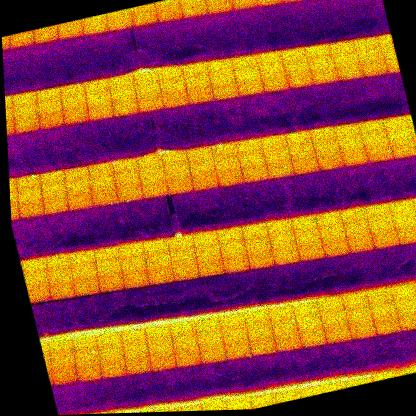Hotspot: (273, 331, 303, 353), (72, 346, 102, 367), (290, 298, 319, 318), (168, 319, 197, 339), (111, 156, 140, 176), (339, 205, 367, 225), (315, 210, 343, 230), (95, 258, 123, 278), (116, 183, 144, 203), (91, 188, 119, 208), (188, 157, 216, 177), (235, 135, 263, 155), (210, 139, 238, 159), (39, 168, 67, 188), (351, 34, 379, 54), (296, 312, 324, 332), (270, 316, 298, 336), (146, 336, 174, 356), (58, 81, 87, 100), (47, 337, 74, 357), (241, 221, 268, 241), (242, 307, 270, 326), (120, 326, 148, 345), (285, 129, 313, 148), (14, 172, 42, 191), (184, 72, 212, 91), (83, 76, 111, 95), (181, 61, 209, 79), (309, 124, 336, 142), (5, 93, 16, 112)
Normal: (221, 251, 251, 275), (148, 349, 178, 372), (71, 276, 102, 298), (296, 241, 326, 263), (121, 269, 151, 291), (19, 255, 49, 277), (298, 326, 328, 348), (220, 324, 250, 346), (321, 237, 350, 259), (373, 315, 402, 337), (198, 343, 227, 365), (146, 265, 176, 286), (362, 201, 392, 222), (74, 361, 104, 382), (48, 280, 76, 302), (97, 343, 126, 364), (48, 351, 77, 372), (246, 249, 275, 270), (196, 257, 225, 278), (171, 261, 200, 282), (367, 216, 396, 237), (97, 273, 126, 294), (265, 216, 294, 237), (68, 248, 97, 269), (44, 251, 73, 272), (266, 159, 295, 180), (241, 163, 270, 184), (165, 175, 194, 196), (140, 179, 169, 200), (336, 134, 365, 155), (357, 117, 386, 138), (236, 78, 265, 99), (186, 85, 215, 106), (62, 105, 91, 126), (32, 24, 61, 45), (223, 340, 252, 361), (50, 366, 79, 387), (245, 320, 274, 341), (121, 340, 151, 360), (65, 192, 95, 212), (36, 110, 66, 130), (35, 86, 65, 106), (105, 11, 135, 31), (80, 16, 110, 36), (55, 19, 85, 39), (173, 347, 201, 368), (272, 246, 301, 266), (193, 242, 222, 262), (340, 148, 369, 168), (382, 114, 411, 134), (138, 165, 167, 185), (232, 65, 261, 85), (133, 81, 162, 101), (36, 98, 65, 118), (155, 2, 184, 22), (99, 358, 128, 378), (27, 283, 53, 305), (341, 291, 369, 311), (316, 295, 344, 315), (267, 302, 295, 322), (217, 311, 245, 331), (193, 314, 221, 334), (372, 230, 400, 250), (347, 234, 375, 254), (343, 219, 371, 239), (294, 227, 322, 247), (269, 231, 297, 251), (244, 235, 272, 255), (169, 247, 197, 267), (144, 251, 172, 271), (119, 255, 147, 275), (291, 213, 319, 233), (70, 263, 98, 283), (46, 266, 74, 286), (191, 228, 219, 248), (142, 237, 170, 257), (93, 245, 121, 265), (316, 151, 344, 171), (292, 155, 320, 175), (190, 171, 218, 191), (312, 136, 340, 156), (287, 141, 315, 161), (163, 161, 191, 181), (113, 170, 141, 190), (89, 174, 117, 194), (64, 177, 92, 197), (260, 133, 288, 153), (40, 182, 68, 202), (16, 185, 44, 205), (185, 144, 213, 164), (161, 148, 189, 168), (261, 74, 289, 94), (137, 94, 165, 114), (86, 102, 114, 122), (13, 115, 41, 135), (303, 41, 331, 61), (131, 7, 159, 27), (349, 320, 377, 340), (323, 323, 351, 343), (249, 336, 277, 356), (370, 300, 398, 320), (345, 305, 373, 325), (124, 354, 152, 374), (195, 328, 223, 348), (362, 132, 391, 151), (359, 59, 388, 78), (211, 83, 240, 102), (355, 46, 384, 65), (306, 54, 335, 73), (111, 98, 140, 117), (207, 69, 236, 88), (107, 72, 136, 91), (24, 270, 51, 290), (7, 29, 37, 47), (144, 324, 172, 343), (71, 333, 99, 352), (318, 224, 346, 243), (218, 238, 246, 257), (216, 225, 244, 244), (118, 242, 146, 261), (215, 167, 243, 186), (333, 121, 361, 140), (63, 164, 91, 183), (286, 69, 314, 88), (162, 90, 190, 109), (85, 90, 113, 109), (255, 50, 283, 69), (205, 56, 233, 75), (156, 64, 184, 83), (11, 90, 39, 109), (321, 309, 349, 328), (171, 334, 199, 353), (95, 331, 124, 349), (385, 129, 414, 147), (310, 67, 339, 85), (331, 51, 360, 69), (158, 78, 187, 96), (132, 70, 161, 88), (179, 0, 208, 18), (390, 140, 416, 160), (366, 287, 393, 306), (388, 198, 415, 217), (42, 197, 69, 216), (18, 199, 45, 218), (87, 160, 114, 179), (335, 63, 362, 82), (166, 234, 194, 252), (238, 150, 266, 168), (136, 153, 164, 171), (282, 58, 310, 76), (109, 86, 137, 104), (230, 52, 258, 70), (390, 283, 416, 302), (328, 39, 355, 57), (279, 46, 306, 64), (392, 211, 416, 231), (366, 146, 394, 163), (263, 147, 291, 164), (213, 155, 241, 172), (258, 63, 286, 80), (60, 95, 88, 112), (396, 309, 416, 332), (393, 296, 416, 316), (12, 103, 39, 120), (225, 395, 252, 410), (396, 225, 416, 245), (199, 398, 228, 411), (205, 0, 233, 13), (230, 0, 257, 10), (5, 105, 16, 124), (175, 404, 204, 411), (6, 117, 16, 137), (254, 0, 282, 7), (2, 35, 13, 52), (150, 406, 179, 412), (279, 0, 308, 4), (413, 277, 416, 298)
